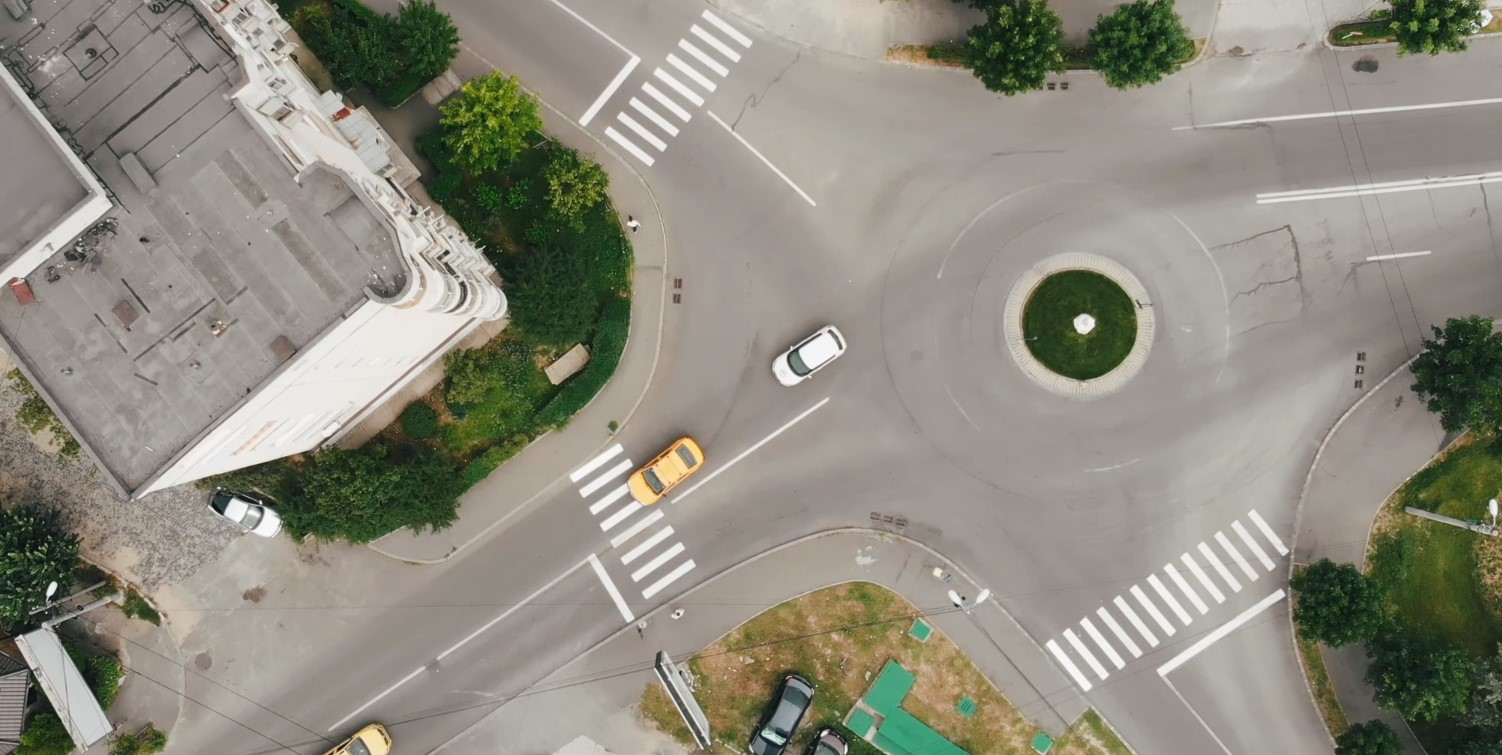araba: (742, 669, 813, 755), (623, 437, 705, 507), (202, 483, 285, 547), (769, 322, 847, 390), (325, 718, 394, 755)
insan: (623, 212, 639, 235)
